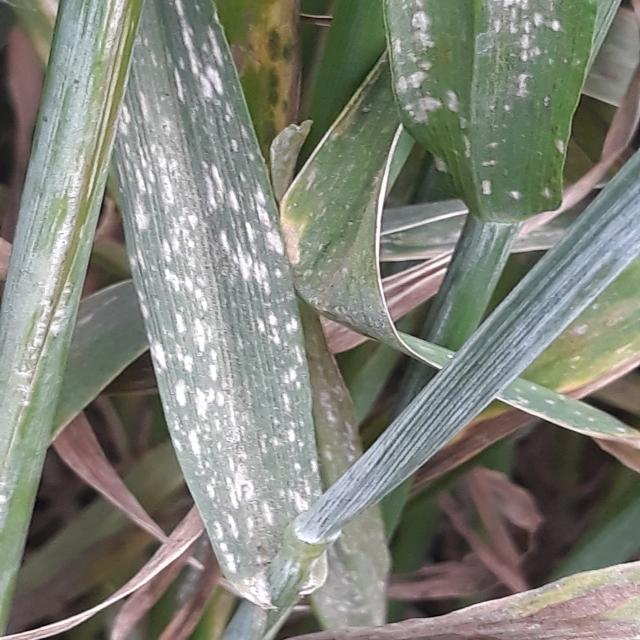powder_mildew: (0, 3, 331, 640), (337, 0, 640, 476), (339, 563, 640, 640)
